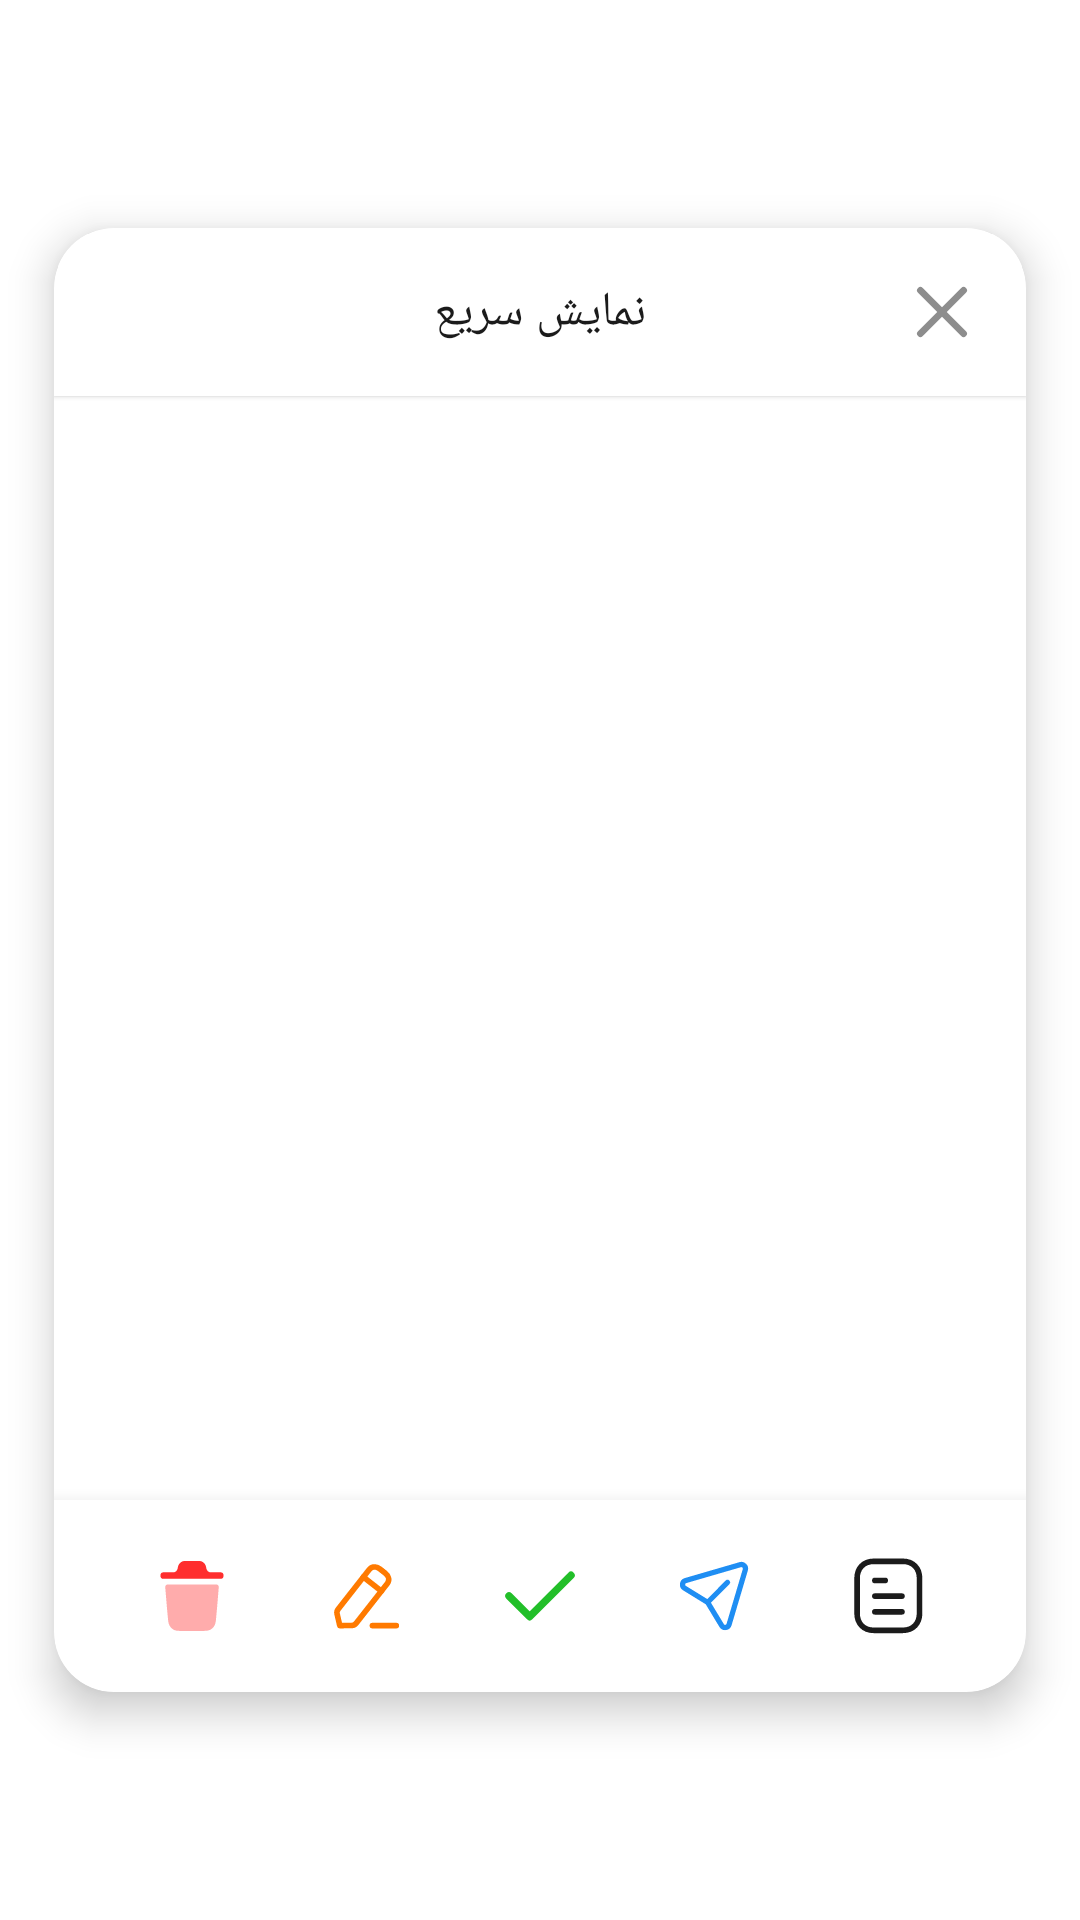

Screen size 1080x1920. Icon name, then its box in pixels as (x1, y1, x2, y2):
ارسال کار: (680, 1561, 749, 1630)
انجام کار: (505, 1571, 575, 1621)
بستن: (917, 287, 967, 337)
جزییات کار: (854, 1558, 923, 1634)
حذف کار: (160, 1561, 224, 1631)
ویرایش کار: (334, 1564, 399, 1629)
